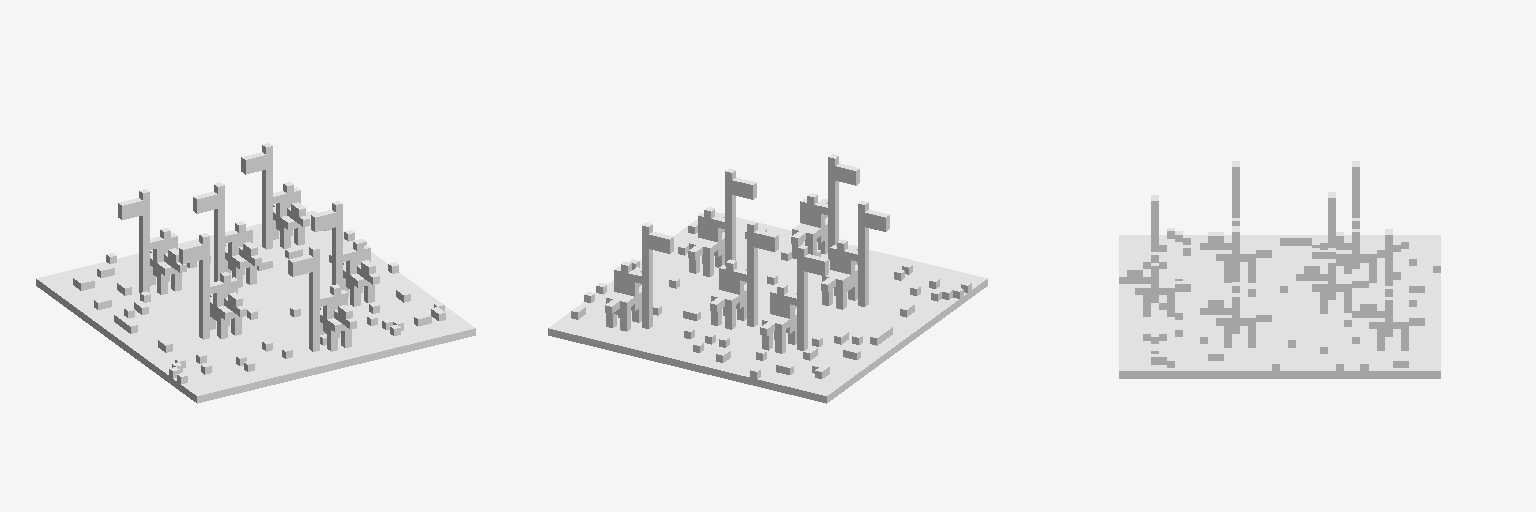
The model's file is success_event_result.obj.
3 views of the same model, side by side, from view 1: azimuth 30°, elevation 25°; view 2: azimuth 150°, elevation 25°; view 3: azimuth 270°, elevation 25° (orthographic).
Parts seen in each view (by area): view 1: object 1; view 2: object 1; view 3: object 1.
Boxes of the visible parts, <box> form: object 1: <box>36,143,475,403</box>; object 1: <box>548,154,987,403</box>; object 1: <box>1119,161,1440,378</box>.
Size of the model in its own units: 4 by 1.5 by 4.